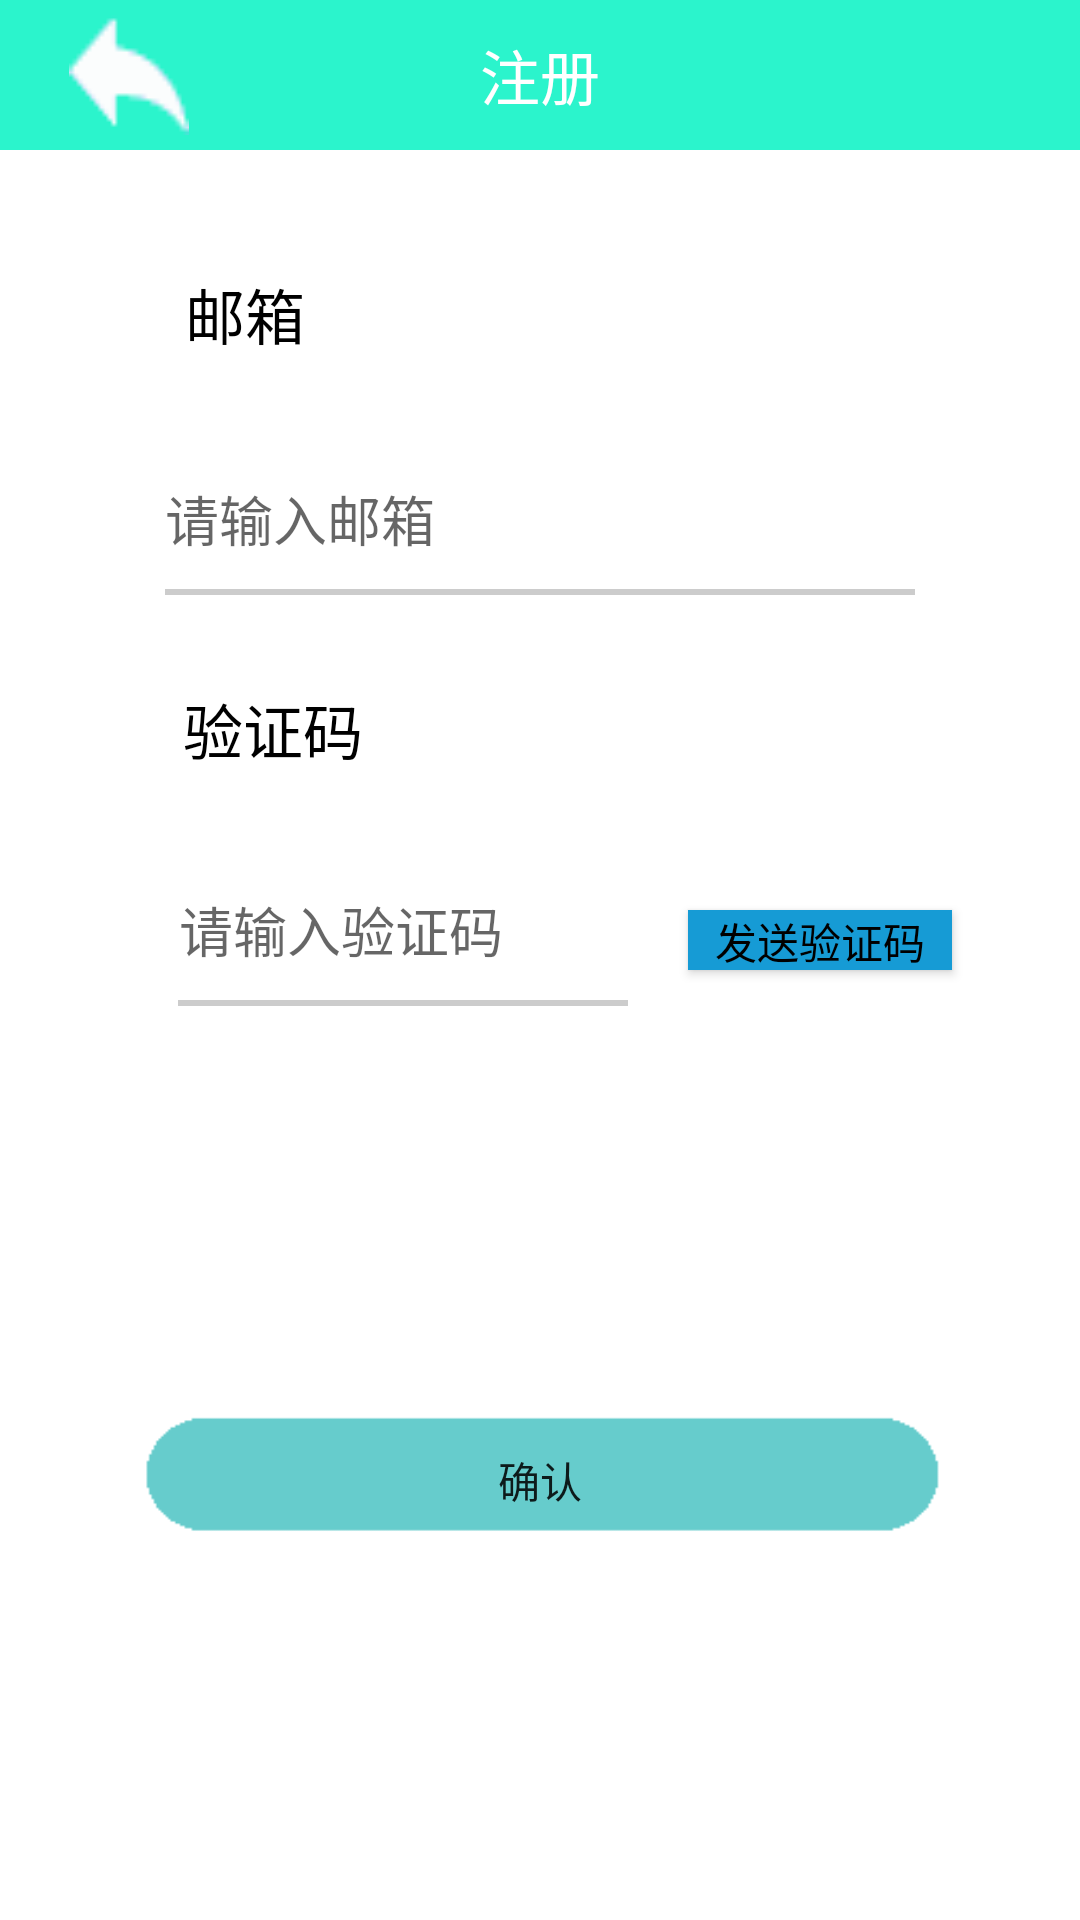

Where icons sit on this 1080 × 1920 app screen, as (x1, y1, x2, y2):
back: (69, 18, 189, 135)
